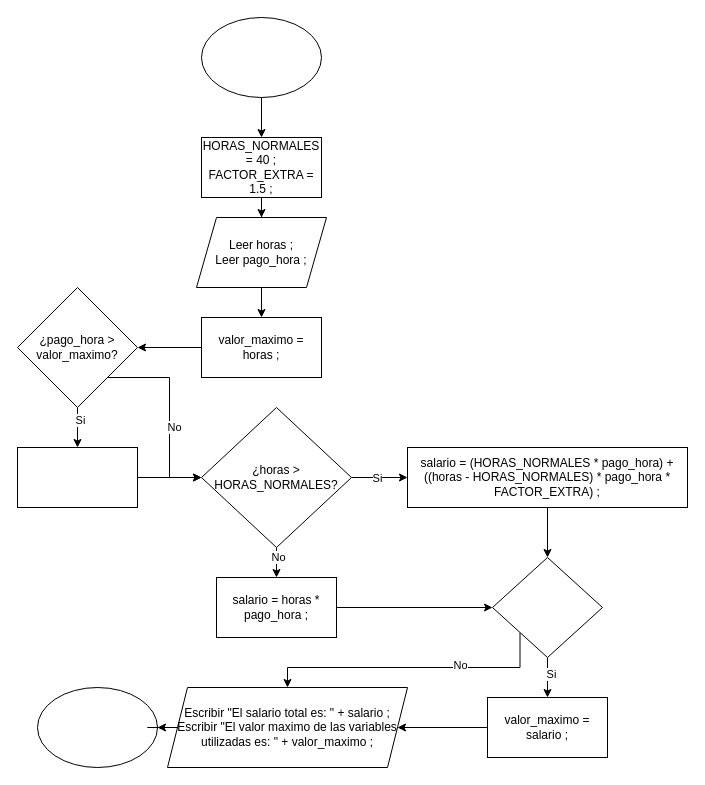
Some shapes in this 705 by 785 pixel diagram are drawn without their labels. Here are the shapes that lost their labels. From the top down, the centre of each, then its label:
At (x=261, y=57): "Inicio".
At (x=77, y=477): "valor_maximo = pago_hora ;".
At (x=547, y=607): "¿salario > valor_maximo?".
At (x=97, y=727): "Fin".
